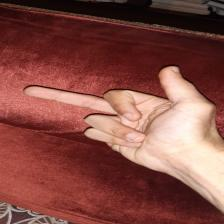five: (20, 66, 214, 158)
